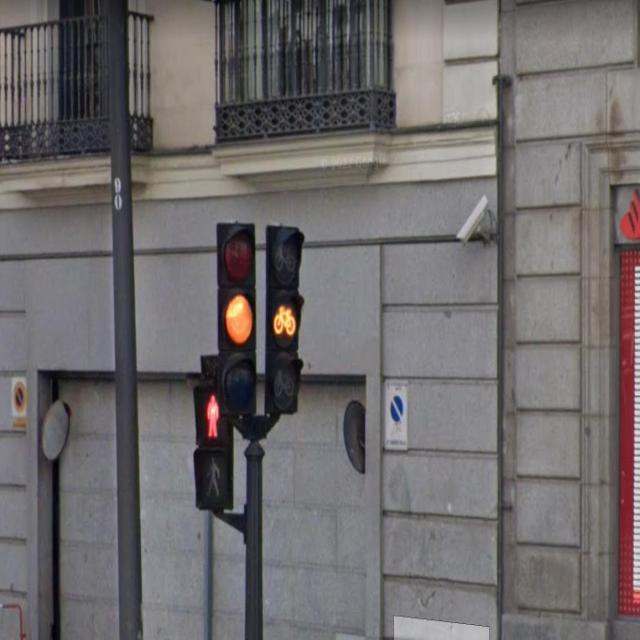yellow_light: (259, 147, 406, 442)
